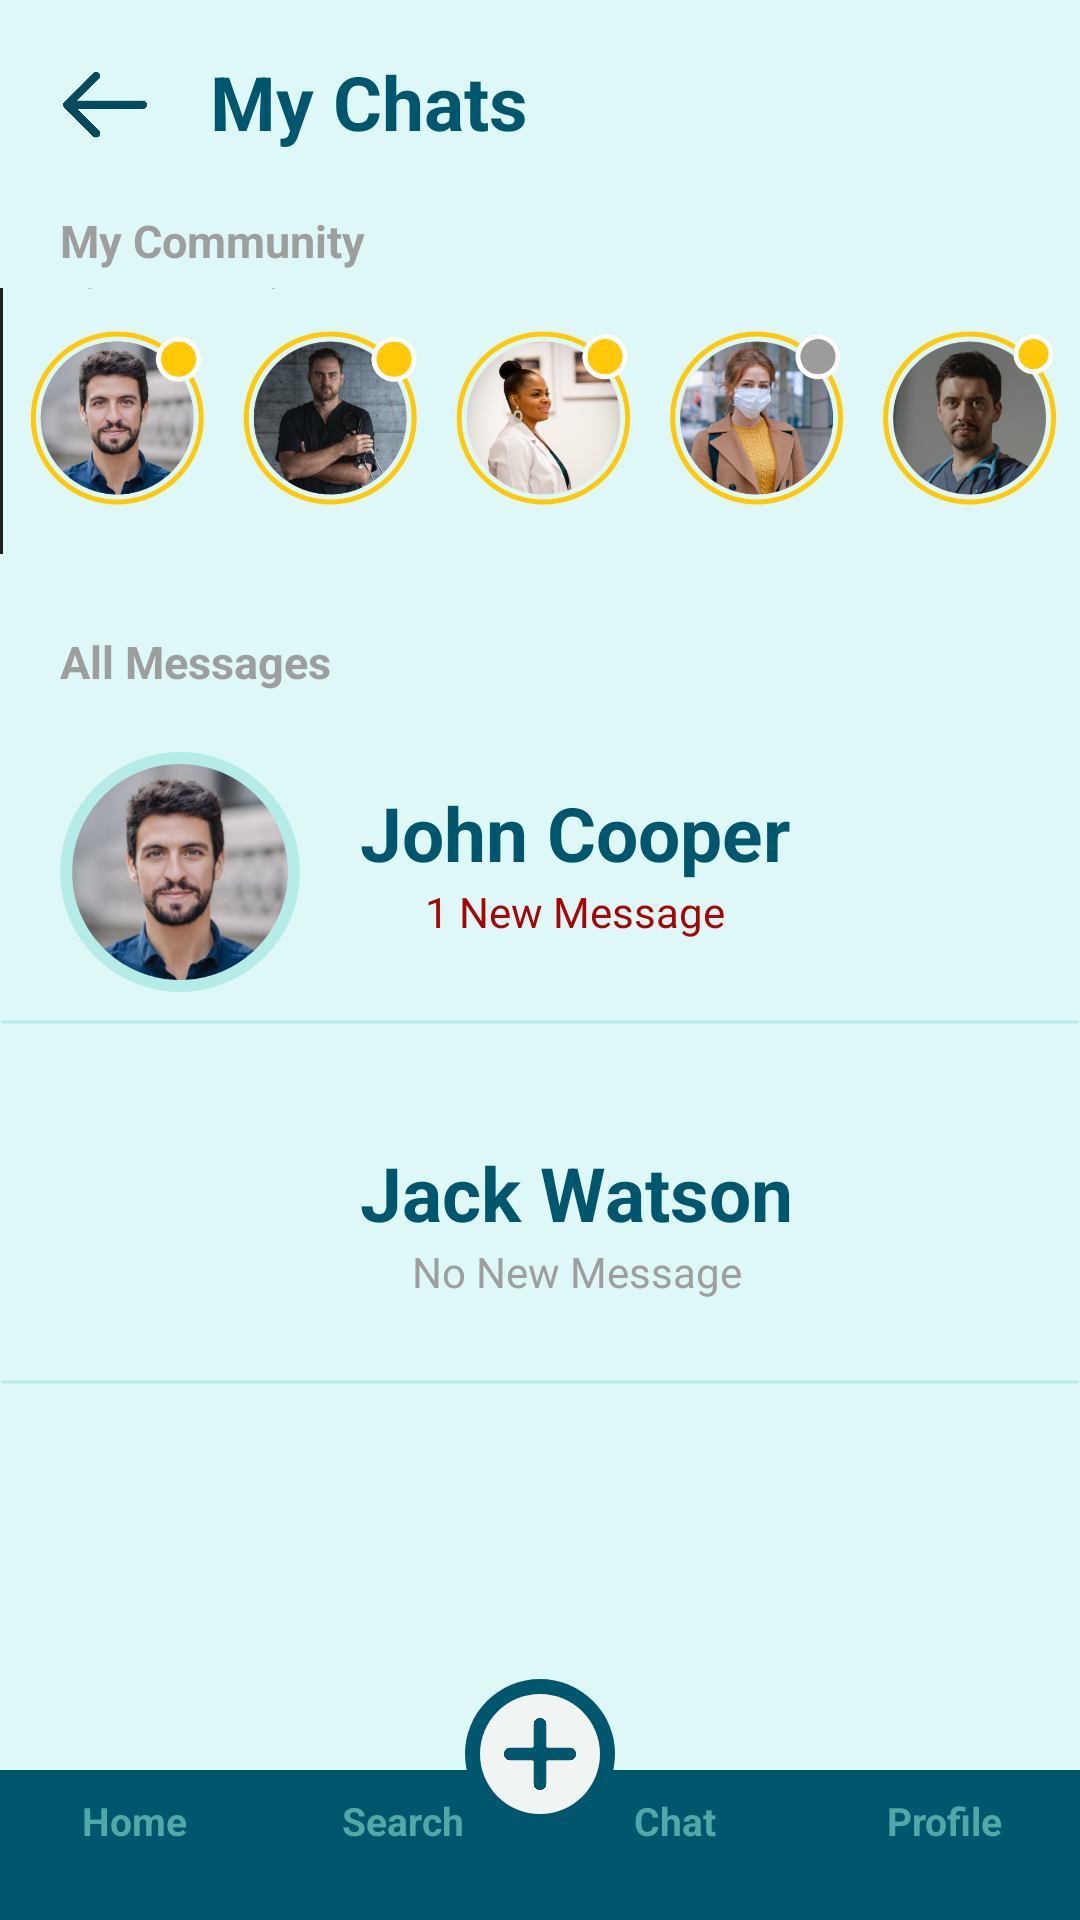

Named icons in this screenshot (1080 × 1920) and their centers, point (x, y):
backarrow: point (105, 105)
plus: point (540, 1754)
